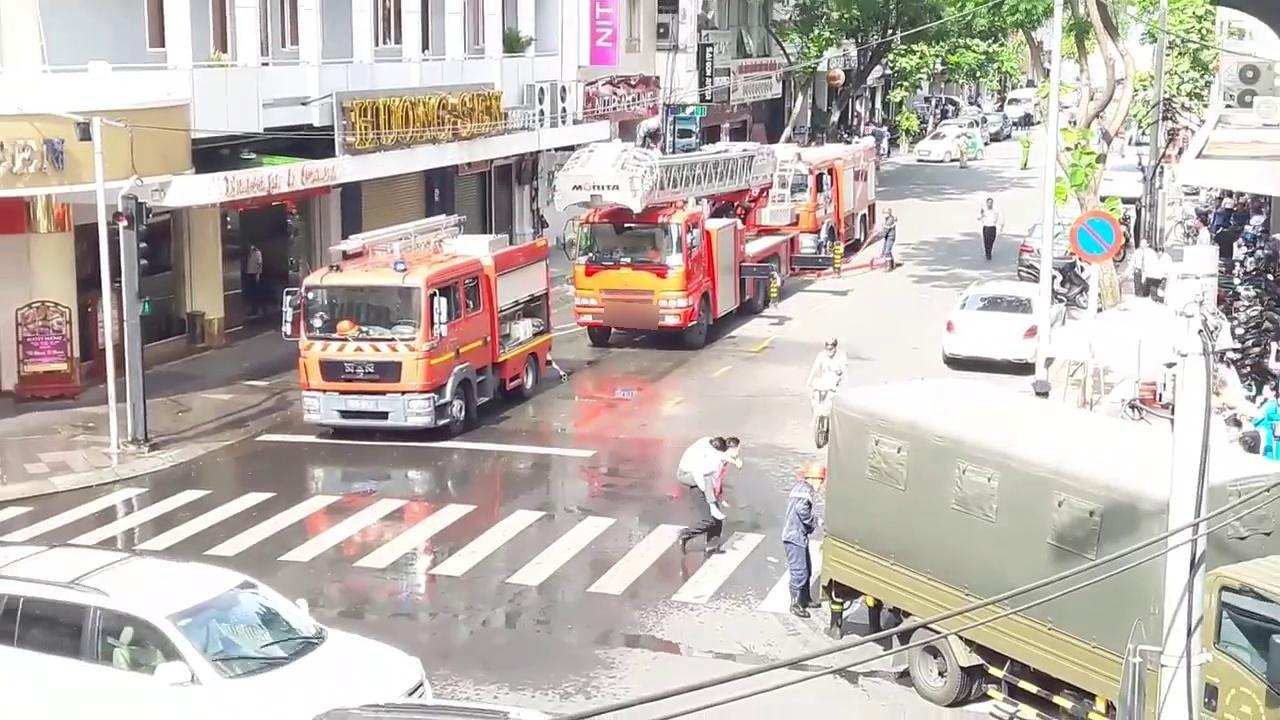xe cuu hoa: (295, 217, 547, 442), (568, 154, 800, 348), (748, 139, 876, 266)
xe hoi: (0, 541, 432, 719), (938, 278, 1052, 380), (1019, 218, 1081, 276)
xe tai: (823, 377, 1279, 720)
